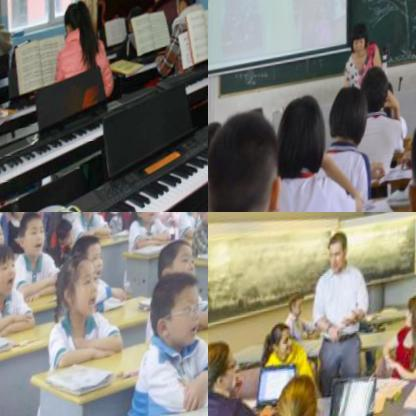head: (208, 103, 298, 212), (144, 269, 208, 361), (274, 90, 338, 179), (53, 252, 108, 325), (154, 237, 207, 306), (330, 79, 378, 153), (208, 333, 248, 403), (273, 372, 330, 416), (71, 235, 113, 290), (357, 67, 396, 120), (16, 213, 52, 265), (0, 243, 24, 308), (267, 317, 300, 363), (208, 118, 234, 169), (324, 233, 354, 277), (62, 0, 93, 40), (52, 220, 79, 259), (349, 26, 376, 62), (288, 290, 309, 321), (175, 0, 206, 20), (404, 293, 416, 338), (134, 212, 162, 230), (0, 219, 9, 260), (195, 212, 208, 238), (8, 212, 33, 224), (76, 212, 101, 223), (151, 0, 179, 8), (61, 212, 78, 219)
